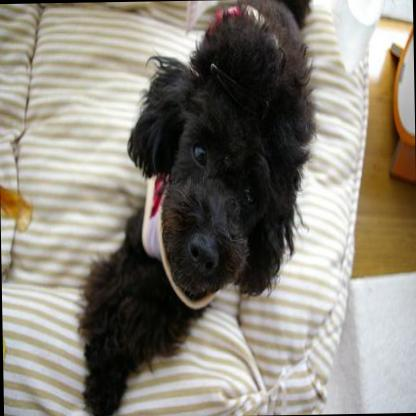toy_poodle: (73, 0, 319, 416)
